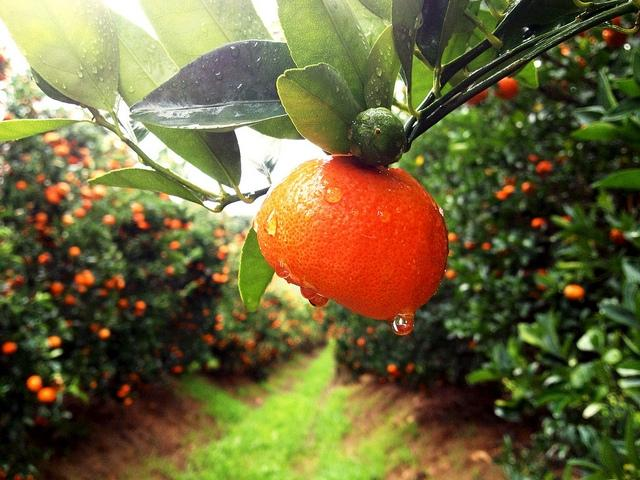orange: (256, 154, 450, 320), (347, 107, 408, 168), (495, 76, 519, 100), (602, 30, 628, 48), (36, 386, 58, 404), (466, 88, 489, 104), (564, 284, 584, 300), (534, 160, 552, 176), (44, 132, 62, 147), (27, 375, 42, 393), (536, 268, 548, 290), (609, 229, 625, 245), (521, 182, 538, 197), (2, 341, 18, 355), (531, 218, 547, 232), (50, 282, 65, 296), (54, 143, 70, 156), (57, 182, 71, 196), (92, 184, 106, 198), (80, 185, 93, 200), (574, 56, 588, 69), (202, 333, 216, 346), (48, 336, 62, 348), (98, 328, 111, 340), (130, 202, 143, 214), (61, 214, 74, 226), (88, 322, 102, 333), (72, 207, 86, 218), (114, 278, 126, 290), (68, 246, 81, 257), (242, 353, 255, 364), (102, 214, 116, 224), (14, 274, 24, 288), (107, 160, 122, 169), (134, 300, 146, 311), (120, 384, 132, 395), (36, 212, 49, 222), (82, 197, 92, 210), (445, 269, 456, 280), (133, 212, 145, 222), (170, 219, 182, 229), (74, 274, 86, 284), (64, 296, 76, 306), (528, 292, 544, 299), (164, 266, 175, 276), (213, 229, 225, 238), (504, 176, 516, 185), (66, 155, 78, 164), (16, 181, 28, 190), (527, 154, 539, 163), (36, 173, 46, 183), (386, 364, 396, 374), (118, 298, 128, 308), (496, 190, 506, 200), (220, 245, 230, 255), (38, 254, 48, 264), (406, 364, 416, 374), (102, 370, 112, 380), (2, 288, 12, 298), (561, 78, 569, 90), (482, 242, 492, 251), (219, 274, 229, 283), (89, 380, 98, 390), (42, 226, 52, 235), (247, 338, 256, 348), (172, 365, 182, 374), (81, 345, 90, 355), (561, 46, 571, 55), (464, 241, 476, 248), (448, 233, 457, 242), (312, 311, 321, 320), (124, 397, 133, 406), (234, 234, 243, 243), (66, 172, 74, 182), (241, 228, 249, 238), (170, 241, 180, 249), (106, 280, 115, 288), (366, 326, 375, 334), (217, 252, 226, 260), (560, 216, 572, 222), (36, 222, 45, 230), (140, 223, 150, 230), (272, 320, 280, 328), (207, 287, 215, 295), (215, 322, 223, 330), (26, 216, 35, 223), (319, 309, 326, 318), (6, 279, 15, 286), (129, 373, 138, 380), (236, 342, 246, 348), (160, 193, 168, 200), (378, 376, 386, 383), (216, 314, 223, 322), (302, 327, 310, 334), (163, 218, 170, 226), (202, 309, 210, 316), (290, 320, 299, 326), (153, 350, 160, 357), (196, 264, 204, 270), (562, 155, 568, 163), (469, 342, 476, 348), (240, 314, 247, 320), (198, 278, 205, 284), (260, 296, 264, 304), (174, 350, 180, 354), (276, 310, 280, 314)
